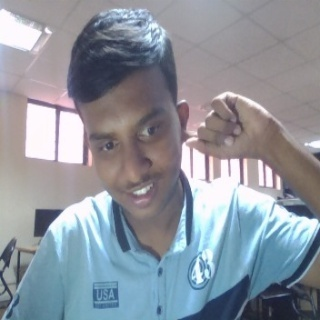Deaf: (183, 90, 280, 161)
Face: (64, 6, 190, 226)
